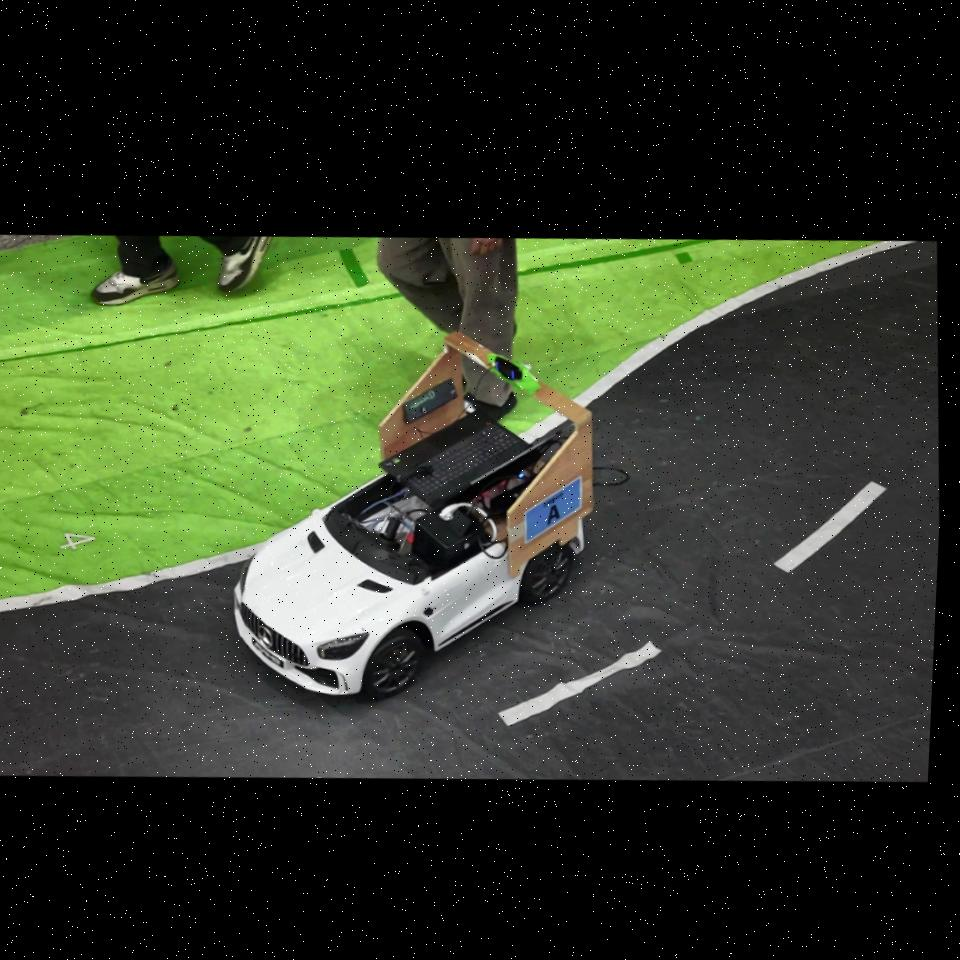broken_line: (498, 642, 661, 727), (775, 482, 885, 573)
